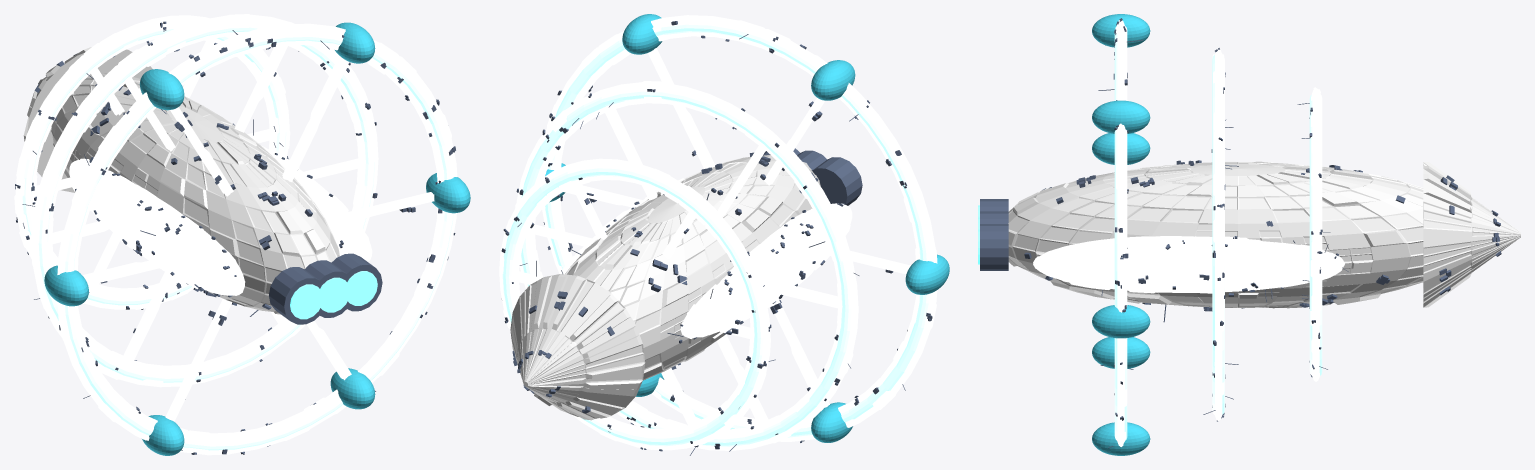
File: vossari_huge.glb
3 views of the same model, side by side, from view 1: azimuth 30°, elevation 25°; view 2: azimuth 150°, elevation 25°; view 3: azimuth 270°, elevation 25° (orthographic). The views are drawn at different scales.
Parts seen in each view (by area): view 1: vossari_huge; view 2: vossari_huge; view 3: vossari_huge.
Boxes of the visible parts, x1=… form: vossari_huge: x1=14, y1=14, x2=470, y2=455; vossari_huge: x1=499, y1=14, x2=949, y2=455; vossari_huge: x1=978, y1=14, x2=1520, y2=455.
Size of the model in its own units: 8.17 by 7.97 by 10.
